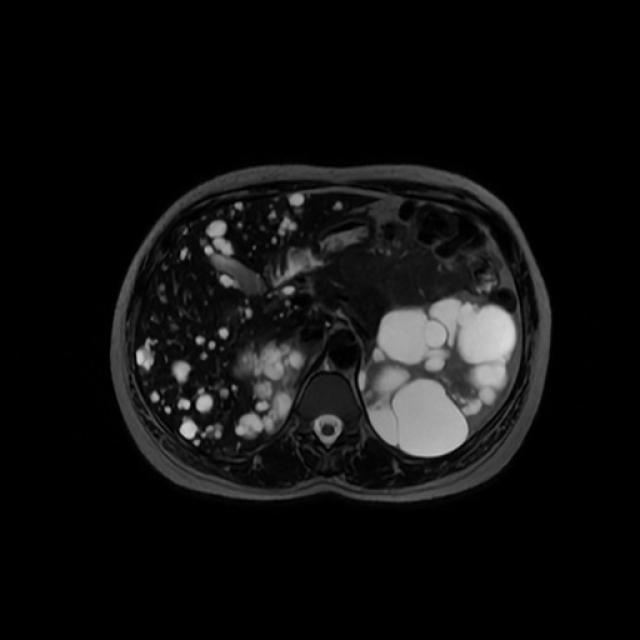sag: (239, 341, 305, 438)
sol: (364, 299, 518, 456)
